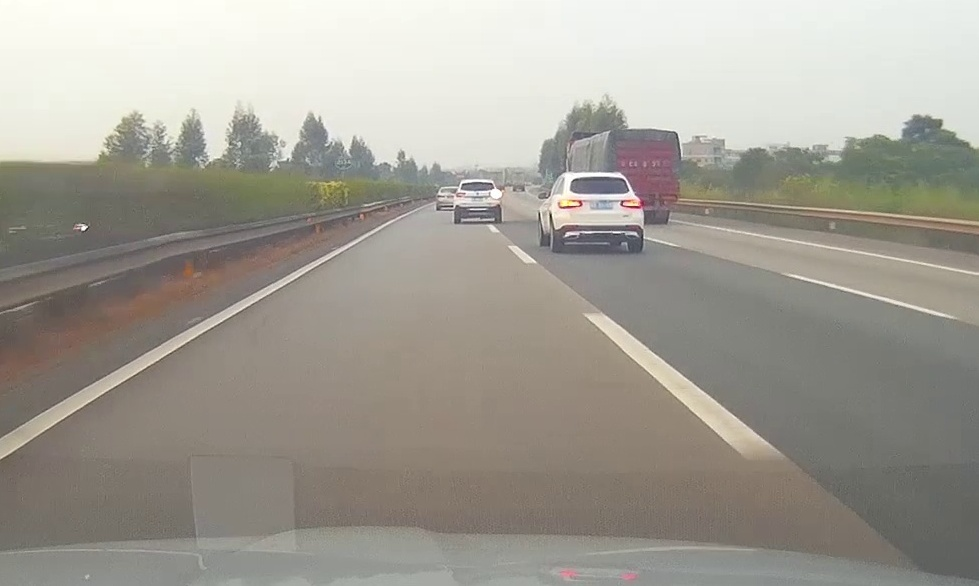L_light: (557, 199, 583, 208), (456, 192, 466, 197)
R_light: (620, 199, 641, 208), (489, 192, 500, 196)
T_light: (473, 182, 482, 183), (594, 177, 603, 178)
day-no: (553, 172, 644, 252)
day-right: (453, 179, 502, 225)
